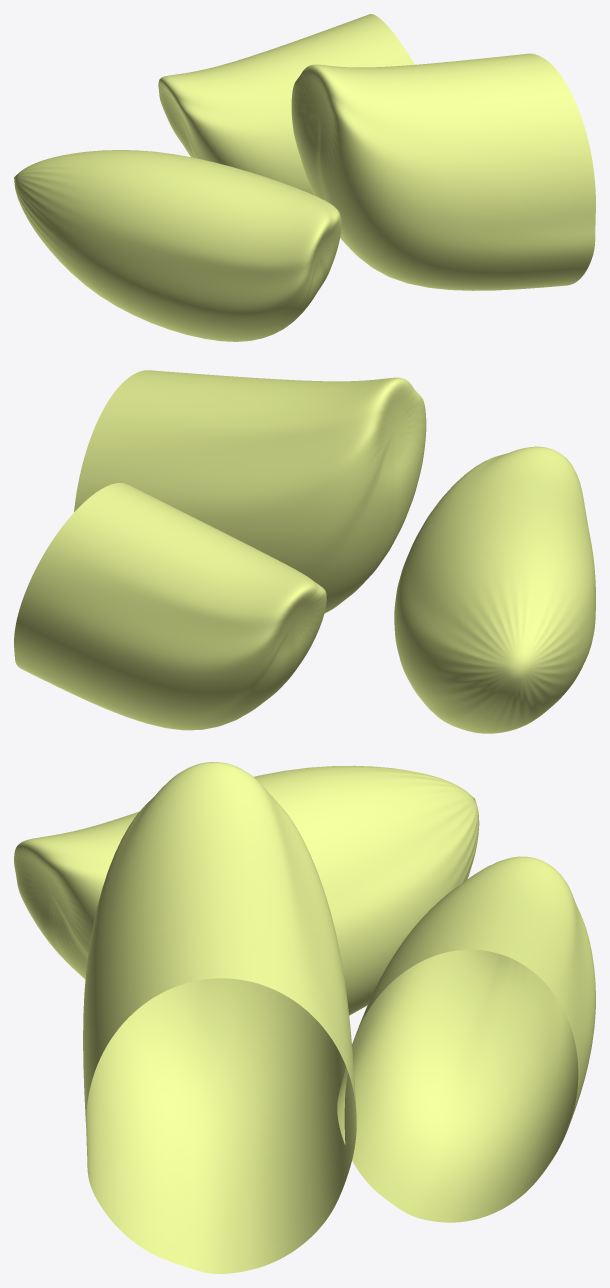
File: garliccut1.fbx
3 views of the same model, one above another, from view 1: azimuth 30°, elevation 25°; view 2: azimuth 150°, elevation 25°; view 3: azimuth 270°, elevation 25° (orthographic). The views are drawn at different scales.
Visible parts, largest first — view 1: Cylinder.002; view 2: Cylinder.002; view 3: Cylinder.002.
Part boxes in pixels (<box>): Cylinder.002: <box>14,14,595,341</box>; Cylinder.002: <box>14,370,595,733</box>; Cylinder.002: <box>14,762,595,1273</box>.
Bounding box in the file's own units: 247 × 142 × 207.
